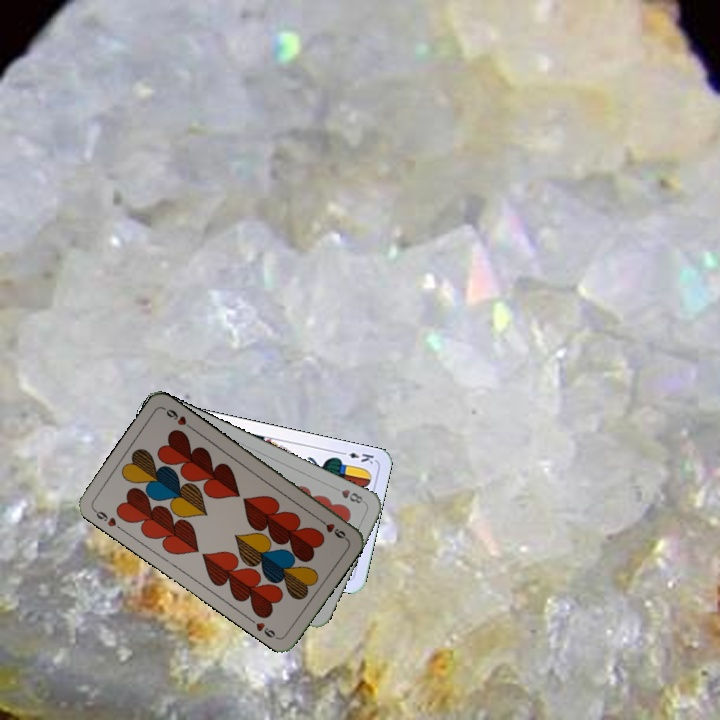EK: (336, 447, 376, 467)
H8: (337, 485, 365, 506)
H9: (314, 514, 349, 542), (90, 505, 125, 533)
